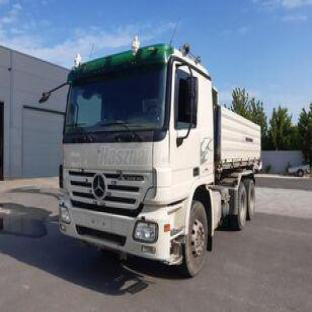Vehicle: (57, 42, 272, 273)
